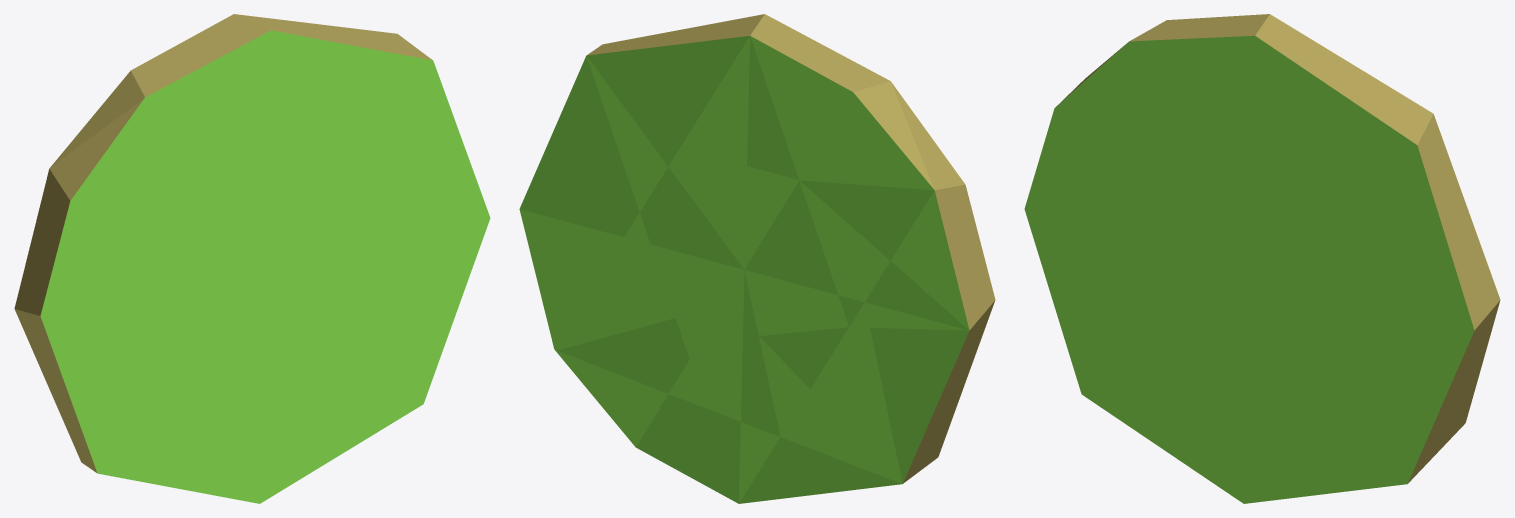
File: PlatformDetails.fbx
3 renders of one model, left to right at view 1: azimuth 30°, elevation 25°; view 2: azimuth 150°, elevation 25°; view 3: azimuth 330°, elevation 25°, orthographic.
Parts seen in each view (by area): view 1: PlatformDetails; view 2: PlatformDetails; view 3: PlatformDetails.
Boxes of the visible parts, bbox=[...] form: PlatformDetails: bbox=[14, 14, 490, 503]; PlatformDetails: bbox=[519, 14, 995, 503]; PlatformDetails: bbox=[1024, 14, 1500, 503].
Size of the model in its own units: 20 by 20 by 2.
